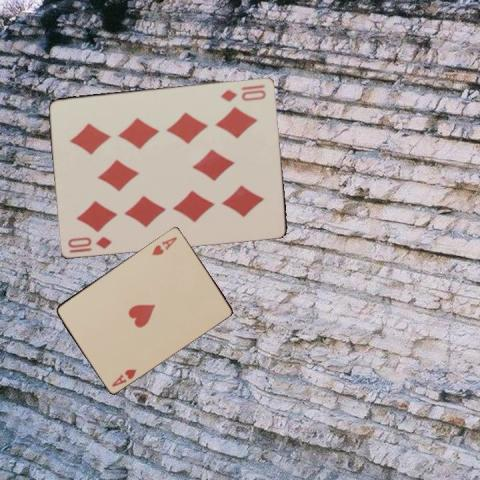10d: (66, 233, 114, 254), (218, 86, 268, 103)
Ah: (148, 233, 178, 257), (109, 366, 138, 388)
